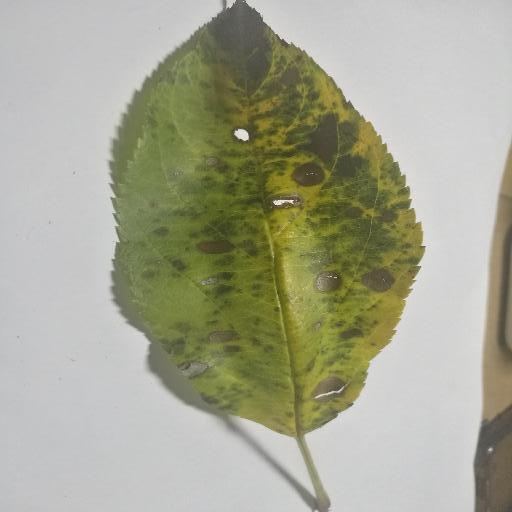Brown_Spot: (230, 118, 265, 148), (315, 372, 346, 405), (178, 353, 210, 382), (293, 163, 330, 185), (261, 192, 307, 209), (198, 234, 239, 252), (360, 269, 394, 284), (207, 327, 241, 340), (315, 270, 336, 291)
